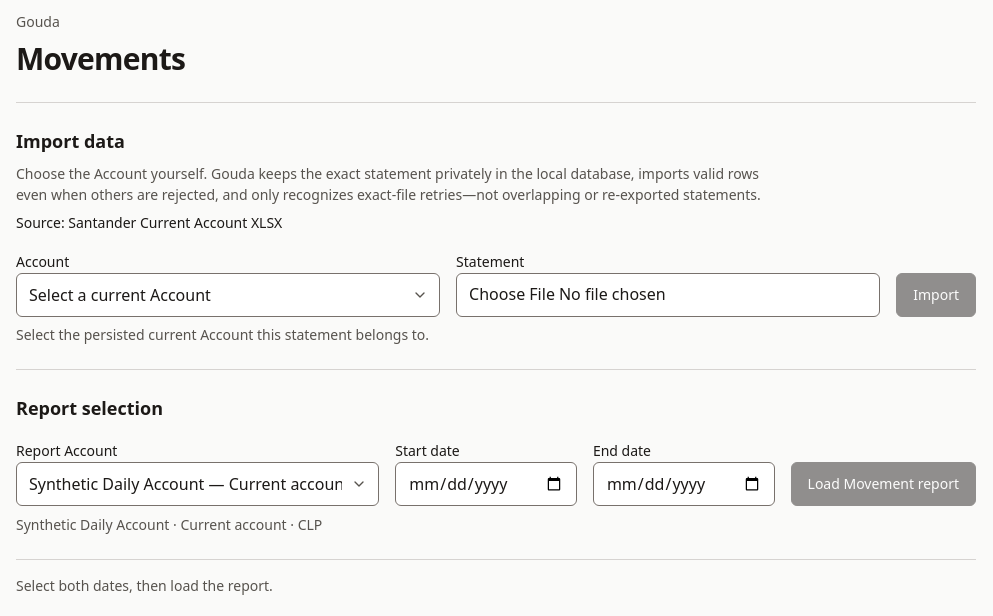
Test case: Gouda read-only report flow › renders the safe 400 date_range_invalid API error
Check: the dropdown labelled "Report Account" is shown, box [16,462,379,506]
Type "2026-05-01" into the date field labelled "Start date" at (486, 484), box [395,462,577,506]
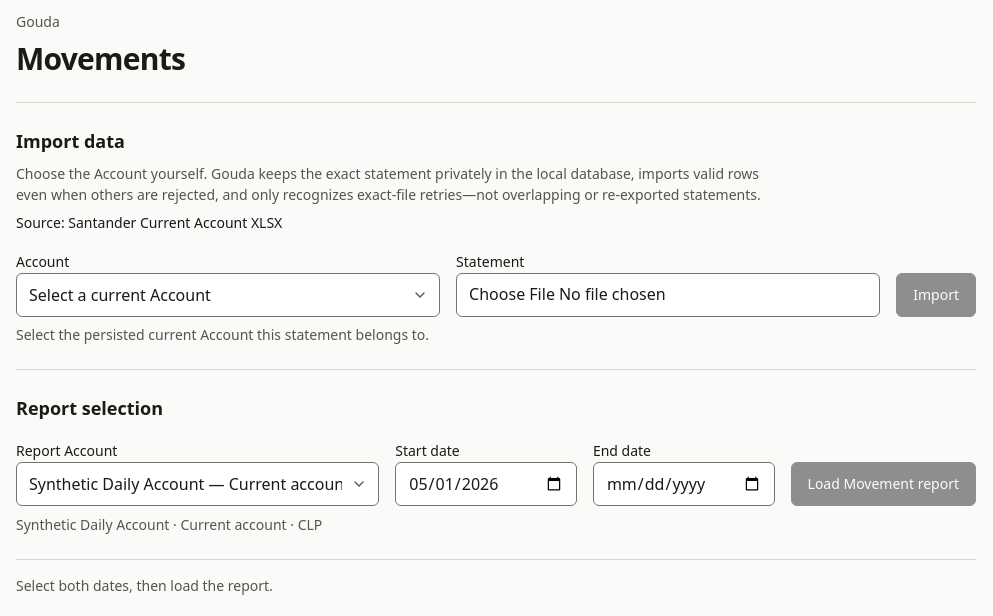
Type "2026-04-30" into the date field labelled "End date" at (684, 484), box [593,462,774,506]
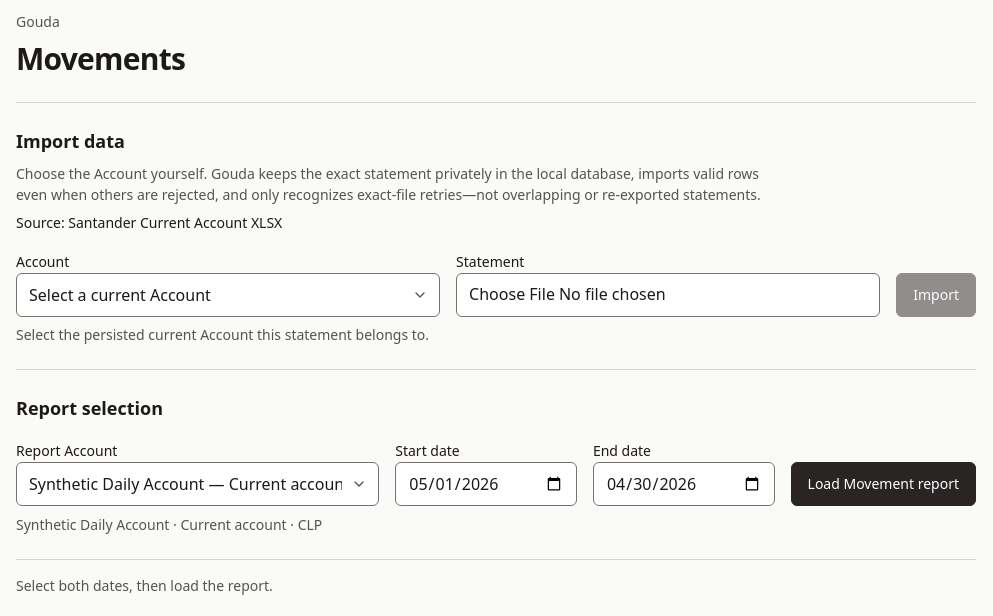
Click the button "Load Movement report" at (883, 484), box [790,462,976,506]
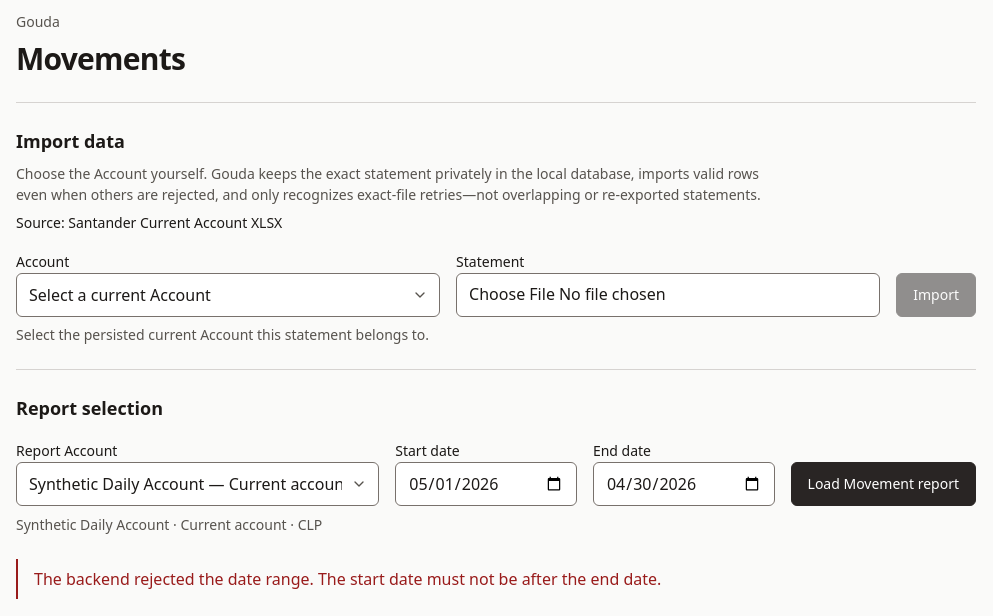
Check: the text "The backend rejected the date range. The start date must not be after the end date." is shown, box [34,568,661,590]
